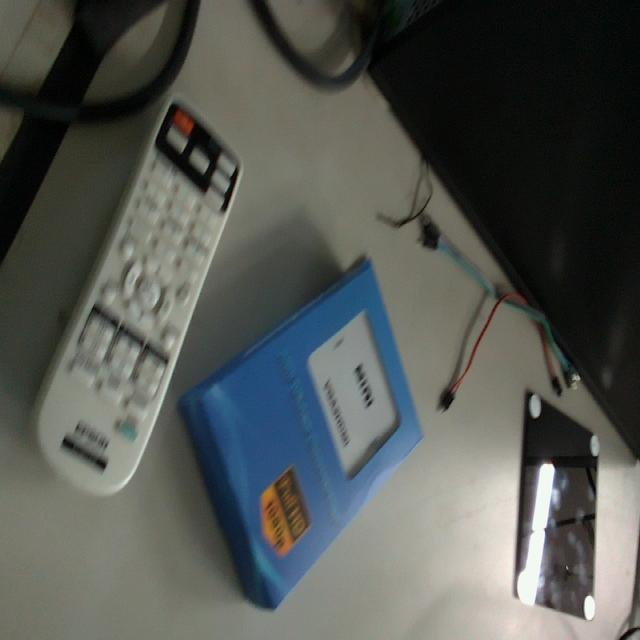remote: (184, 260, 425, 612), (39, 103, 254, 497)
